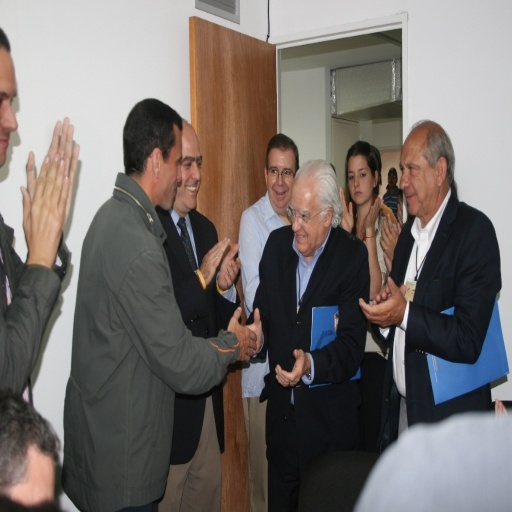hand: (18, 151, 70, 270), (357, 275, 406, 327), (225, 304, 258, 364), (199, 236, 231, 287), (272, 347, 309, 388), (378, 211, 403, 263), (216, 242, 241, 290), (371, 278, 406, 305), (337, 186, 355, 233), (245, 304, 261, 356), (363, 194, 382, 232), (493, 395, 509, 418), (396, 191, 403, 230), (383, 251, 392, 276)
